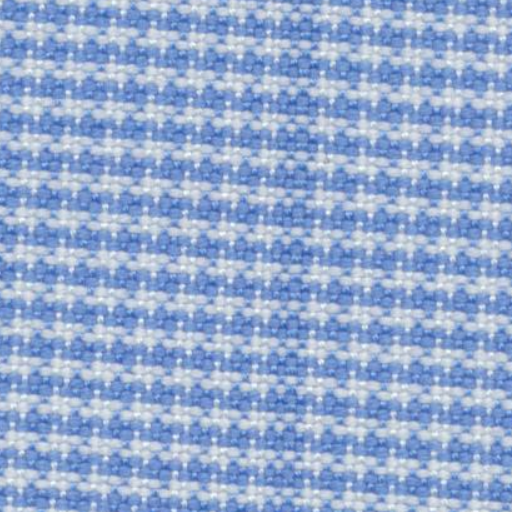TuoSha: (238, 4, 357, 502)
